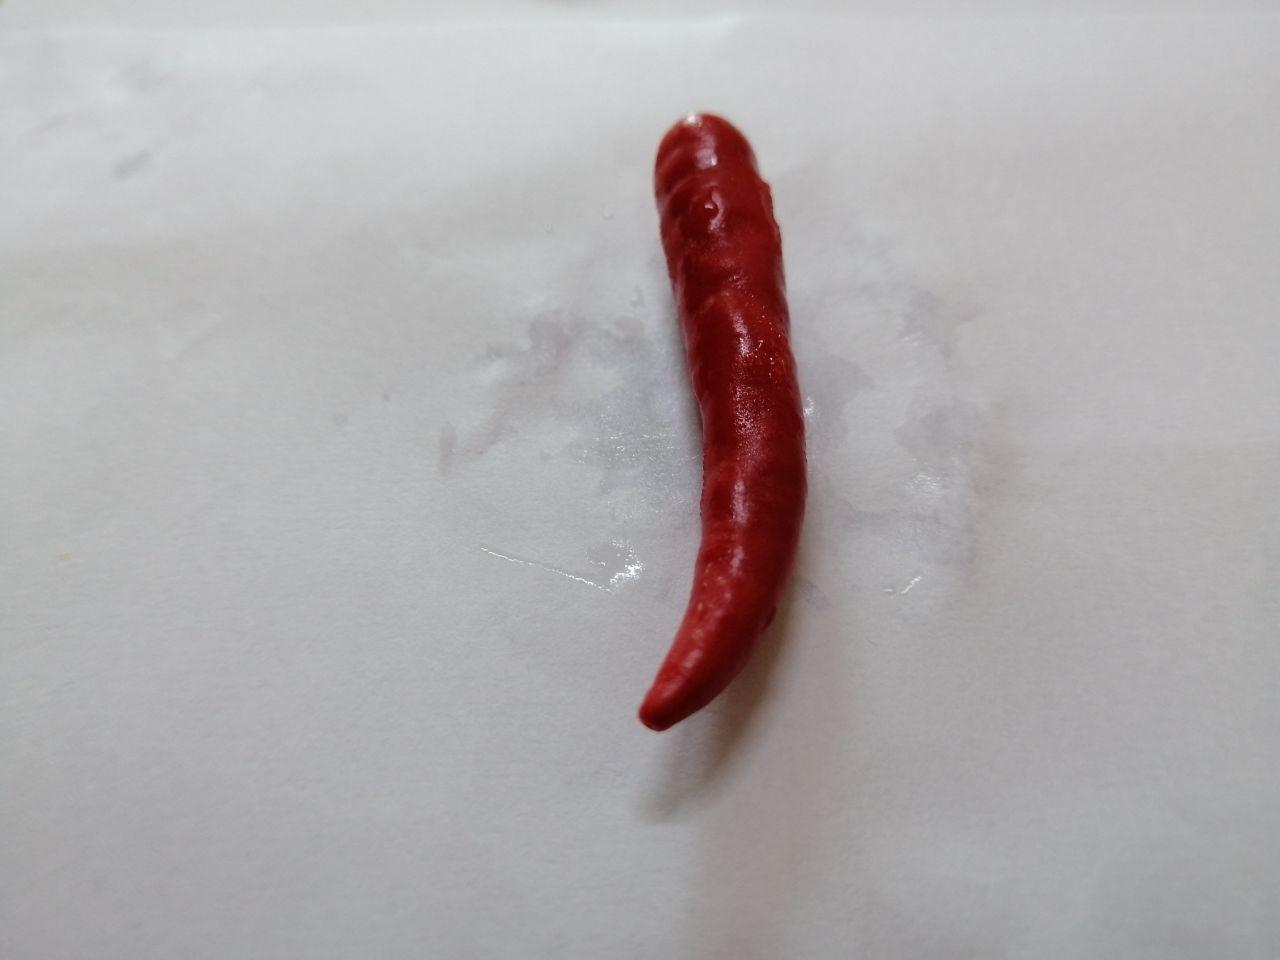lada merah: (619, 96, 815, 744)
